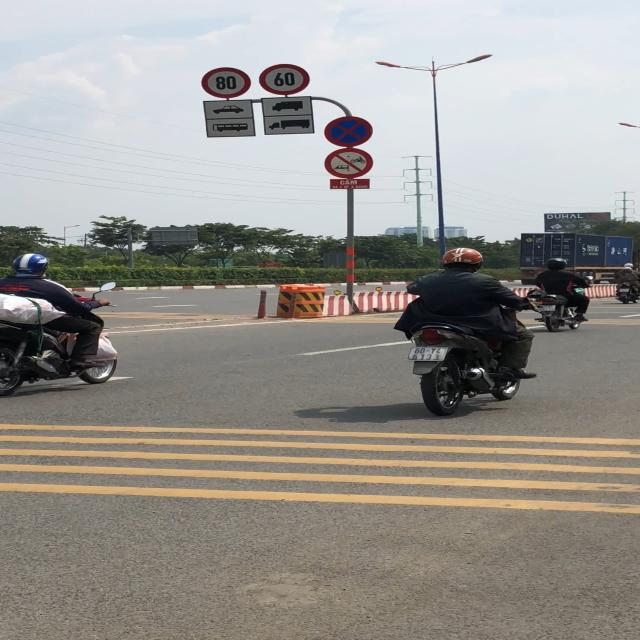Bien bao cam dung xe va do xe: (320, 114, 378, 147)
Bien bao toc do toi da cho phep: (255, 64, 316, 96), (199, 66, 255, 100)
